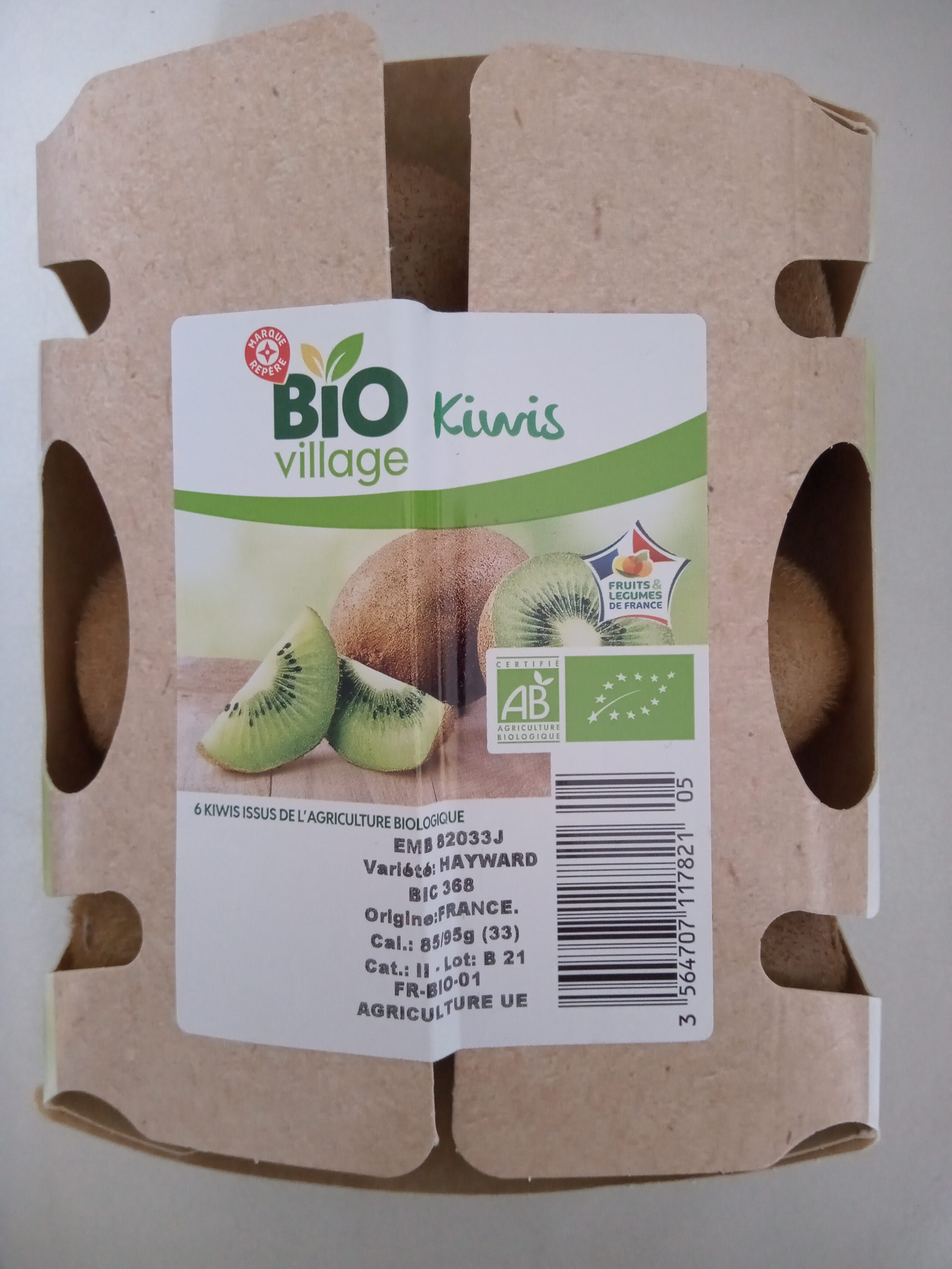Kiwis: (48, 63, 904, 1206)
